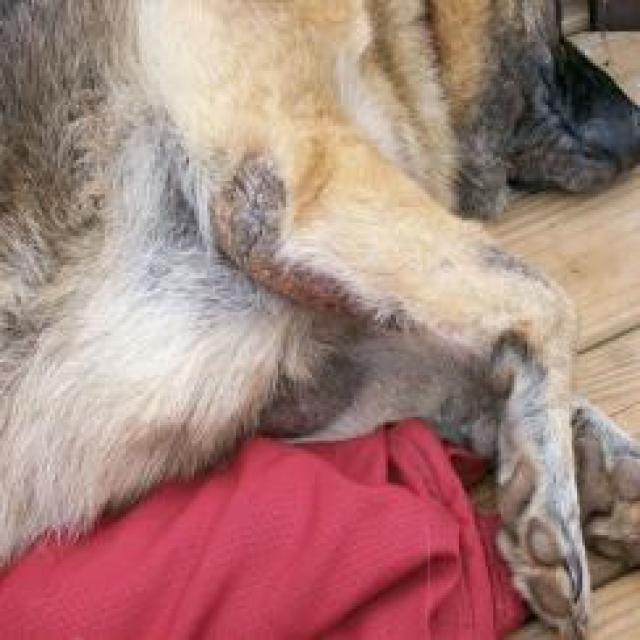fungal infection: (205, 167, 293, 277), (478, 238, 552, 302), (268, 263, 368, 307), (464, 327, 548, 375)
